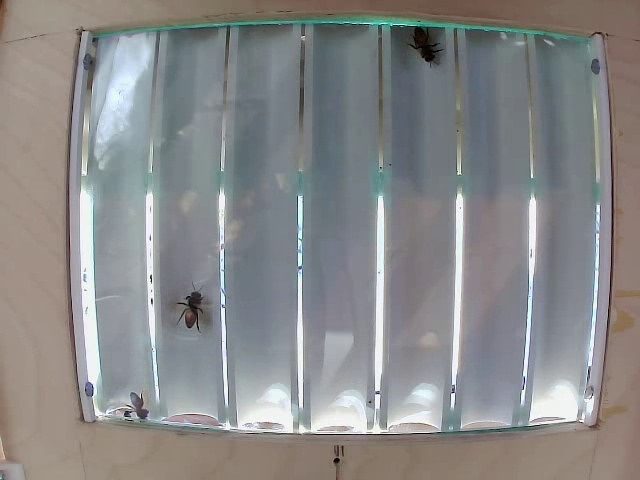bee: (172, 290, 219, 333), (401, 21, 431, 73)
